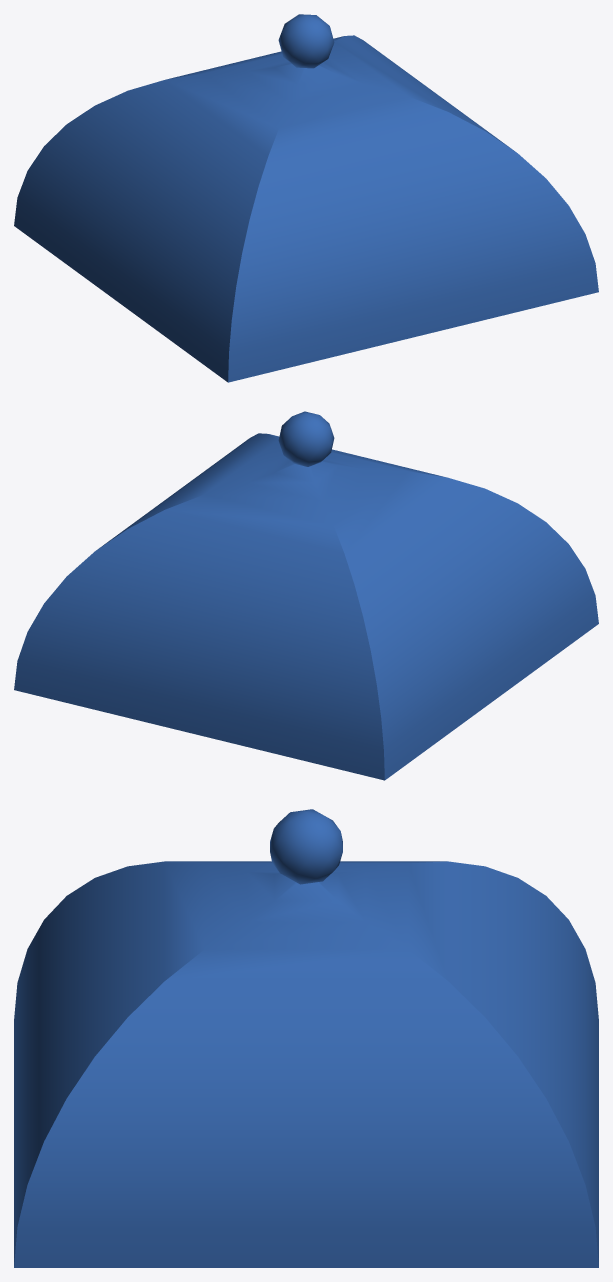
File: Roof_002.fbx
The picture shows the model from 3 angles, top to bottom: view 1: azimuth 30°, elevation 25°; view 2: azimuth 150°, elevation 25°; view 3: azimuth 270°, elevation 25°; orthographic projection. The views are drawn at different scales.
Visible parts, largest first — view 1: Roof.002; view 2: Roof.002; view 3: Roof.002.
Part boxes in pixels (x1,y1,x2,y2): Roof.002: [14, 14, 598, 382]; Roof.002: [14, 411, 598, 780]; Roof.002: [14, 809, 598, 1267].
Bounding box in the file's own units: 100 × 62.65 × 100.
